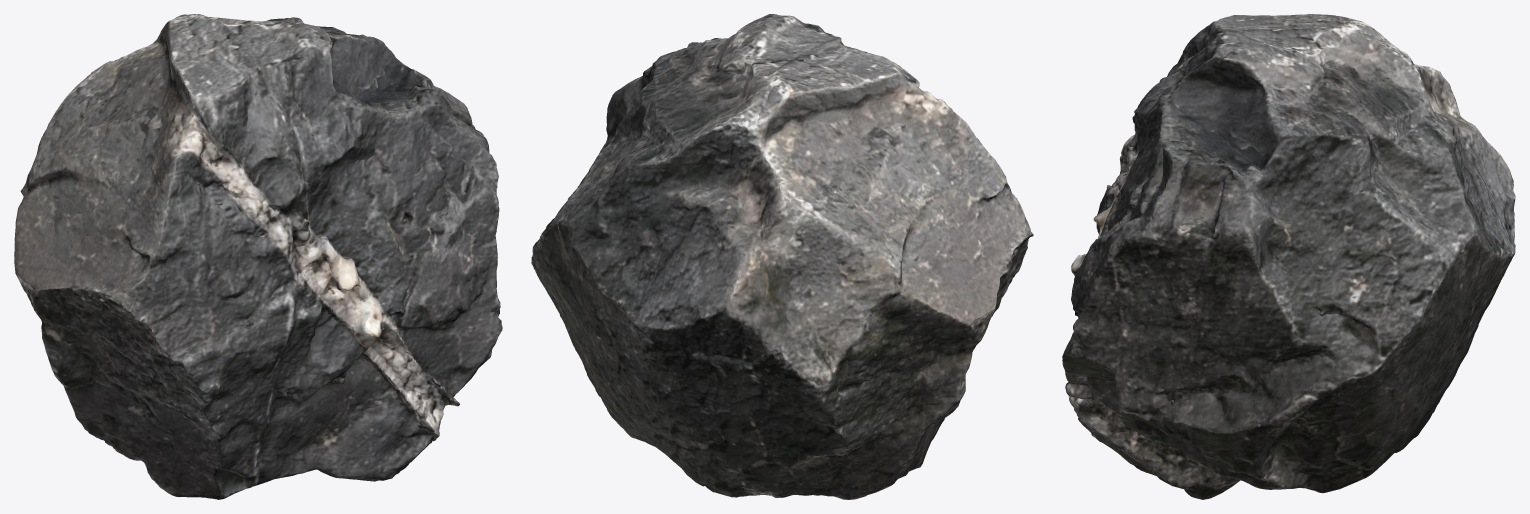
File: quartz-vein-v12.glb
The picture shows the model from 3 angles, left to right: view 1: azimuth 30°, elevation 25°; view 2: azimuth 150°, elevation 25°; view 3: azimuth 270°, elevation 25°; orthographic projection.
Visible parts, largest first — view 1: geometry_0; view 2: geometry_0; view 3: geometry_0.
Part boxes in pixels (box(x1,y1,x2,y2)): geometry_0: box(14, 14, 502, 499); geometry_0: box(531, 14, 1033, 499); geometry_0: box(1062, 14, 1515, 499).
Size of the model in its own units: 0.12 by 0.1112 by 0.109.
1 material, 1 textured.
